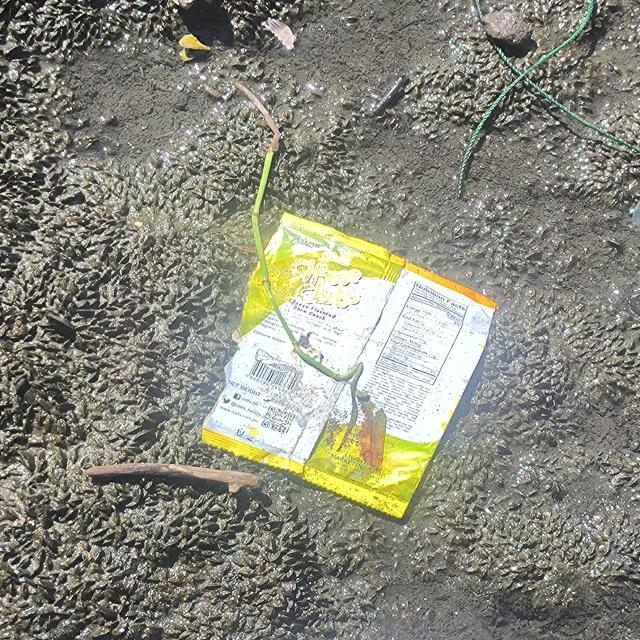plastic_waste: (200, 212, 500, 521)
